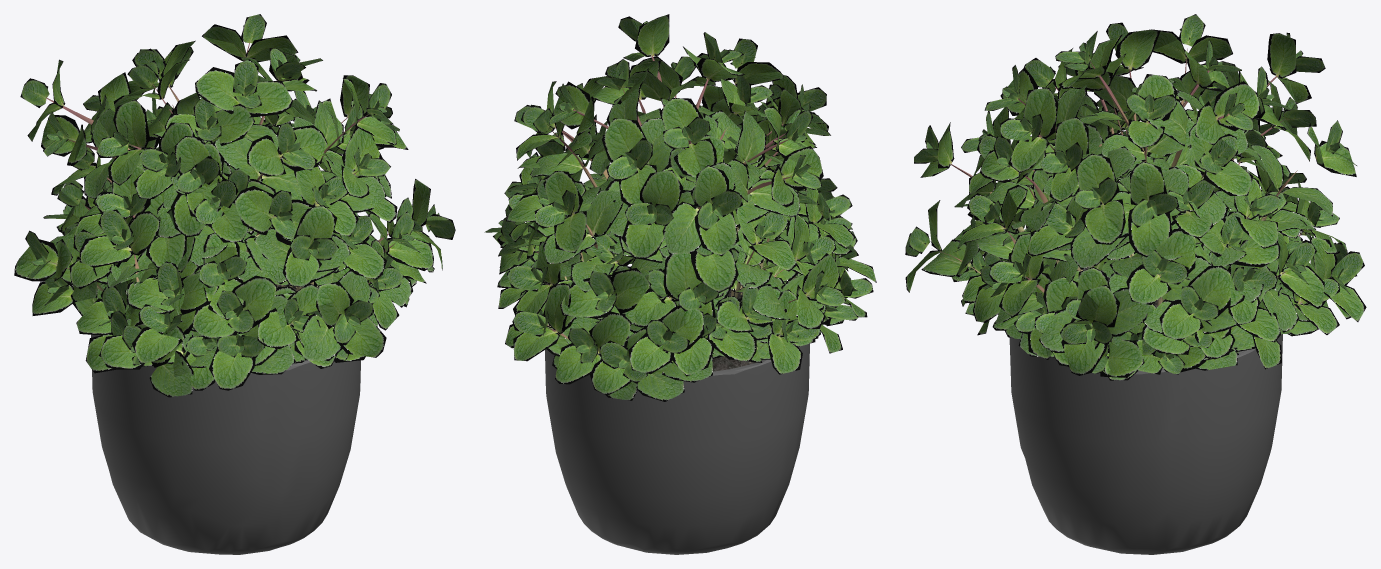
File: plante.glb
3 views of the same model, side by side, from view 1: azimuth 30°, elevation 25°; view 2: azimuth 150°, elevation 25°; view 3: azimuth 270°, elevation 25° (orthographic). The views are drawn at different scales.
Visible parts, largest first — view 1: 3DGeom~19_32021017, 3DGeom~21_32021023, 3DGeom~20_32021020, 3DGeom~18_32021032, 3DGeom~17_32021029_1; view 2: 3DGeom~19_32021017, 3DGeom~21_32021023, 3DGeom~20_32021020, 3DGeom~18_32021032, 3DGeom~17_32021029_1; view 3: 3DGeom~19_32021017, 3DGeom~21_32021023, 3DGeom~20_32021020, 3DGeom~18_32021032, 3DGeom~17_32021029_1.
Part boxes in pixels (x1,y1,x2,y2): 3DGeom~19_32021017: [14, 24, 442, 390]; 3DGeom~21_32021023: [91, 284, 360, 554]; 3DGeom~20_32021020: [20, 14, 455, 365]; 3DGeom~18_32021032: [50, 75, 434, 397]; 3DGeom~17_32021029_1: [46, 42, 423, 356]; 3DGeom~19_32021017: [493, 14, 876, 395]; 3DGeom~21_32021023: [545, 285, 809, 554]; 3DGeom~20_32021020: [484, 16, 873, 383]; 3DGeom~18_32021032: [507, 70, 843, 401]; 3DGeom~17_32021029_1: [525, 55, 810, 362]; 3DGeom~19_32021017: [905, 29, 1366, 380]; 3DGeom~21_32021023: [1009, 268, 1282, 554]; 3DGeom~20_32021020: [905, 14, 1364, 374]; 3DGeom~18_32021032: [921, 61, 1332, 370]; 3DGeom~17_32021029_1: [933, 48, 1303, 328].
Size of the model in its own units: 0.9061 by 1.1 by 0.9516.
6 materials, 5 textured.
